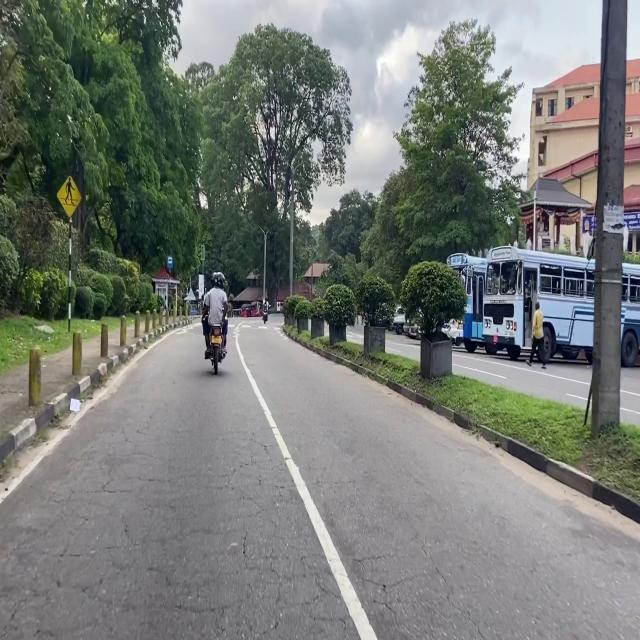bus: (475, 246, 640, 366), (447, 253, 497, 354)
motorcycle: (209, 325, 225, 375), (263, 311, 268, 324)
person: (202, 272, 228, 359), (527, 302, 546, 369), (263, 297, 268, 313)
three wheeler: (251, 301, 261, 317), (240, 305, 249, 317)
van: (391, 306, 405, 334)
